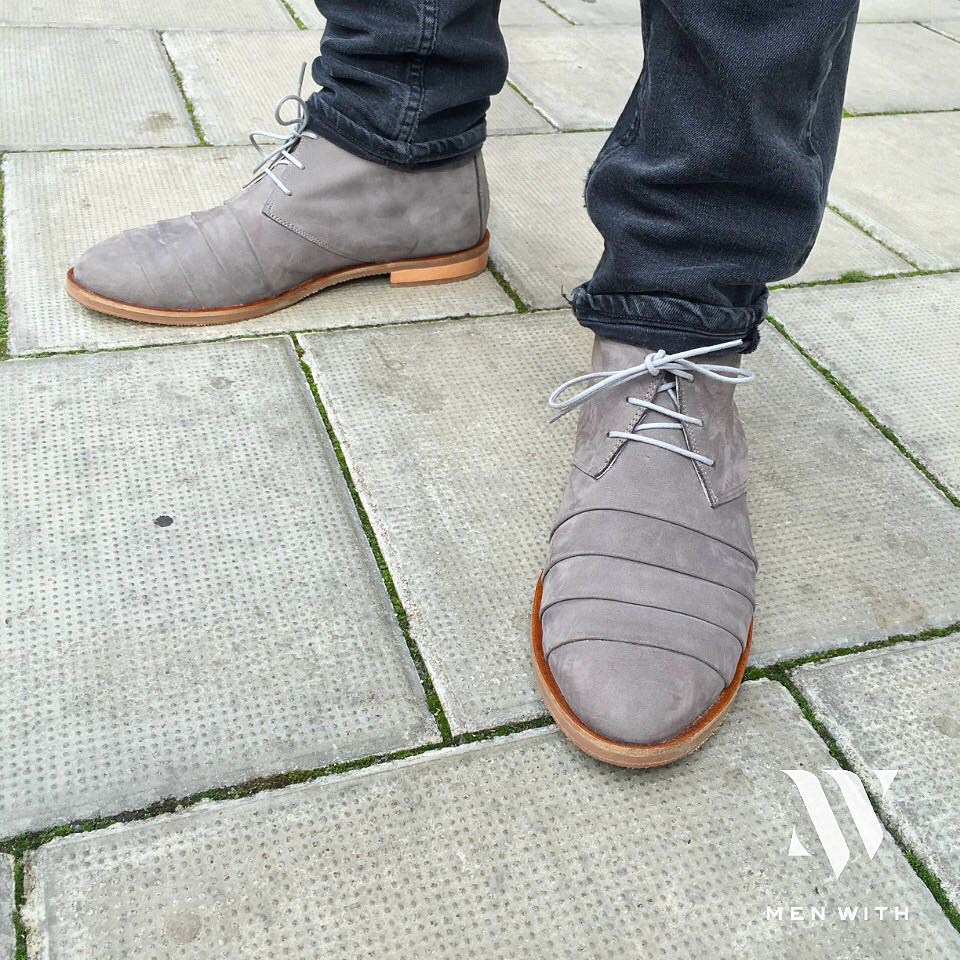sneaker: (495, 289, 788, 802), (31, 47, 511, 358)
